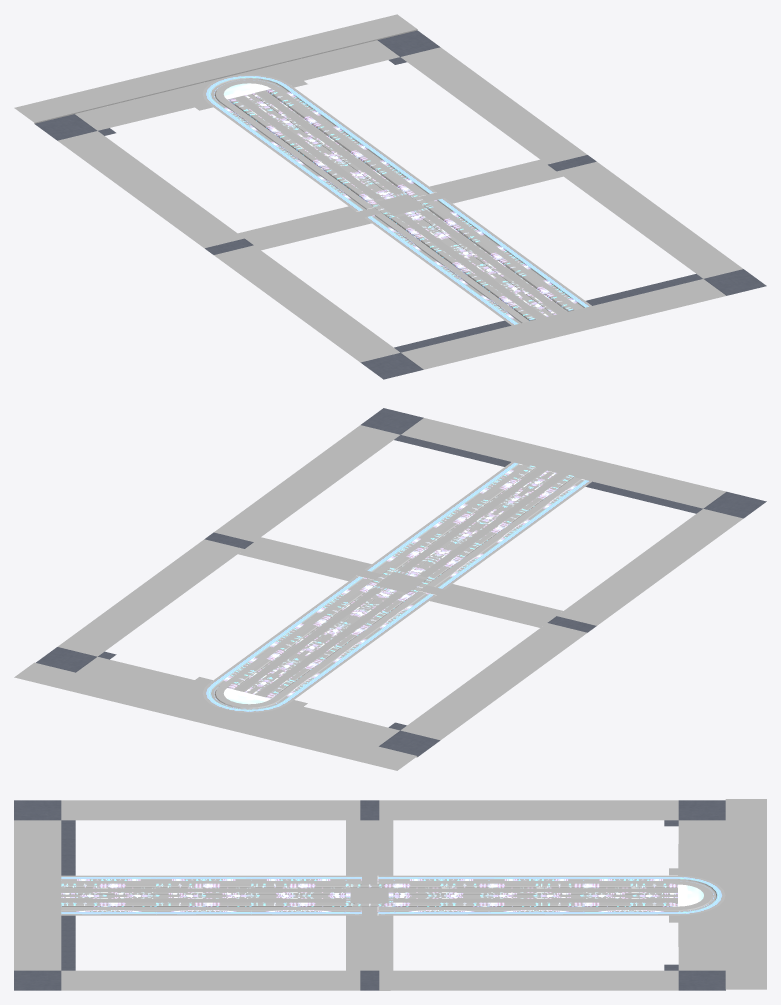
The model's file is Steet.fbx.
3 renders of one model, top to bottom at view 1: azimuth 30°, elevation 25°; view 2: azimuth 150°, elevation 25°; view 3: azimuth 270°, elevation 25°, orthographic.
Parts seen in each view (by area): view 1: Steet; view 2: Steet; view 3: Steet.
Part boxes in pixels (x1,y1,x2,y2): Steet: [14, 14, 766, 379]; Steet: [14, 408, 766, 770]; Steet: [14, 799, 766, 990].
Size of what is drawn, in the model's own units: 190 by 0.8743 by 317.
